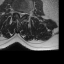CCS_normal: (20, 10, 22, 19)
LFS_normal: (24, 10, 27, 16)
LLS_stenosis: (22, 10, 24, 18)
RFS_stenosis: (15, 8, 17, 16)
RLS_stenosis: (17, 9, 20, 17)
